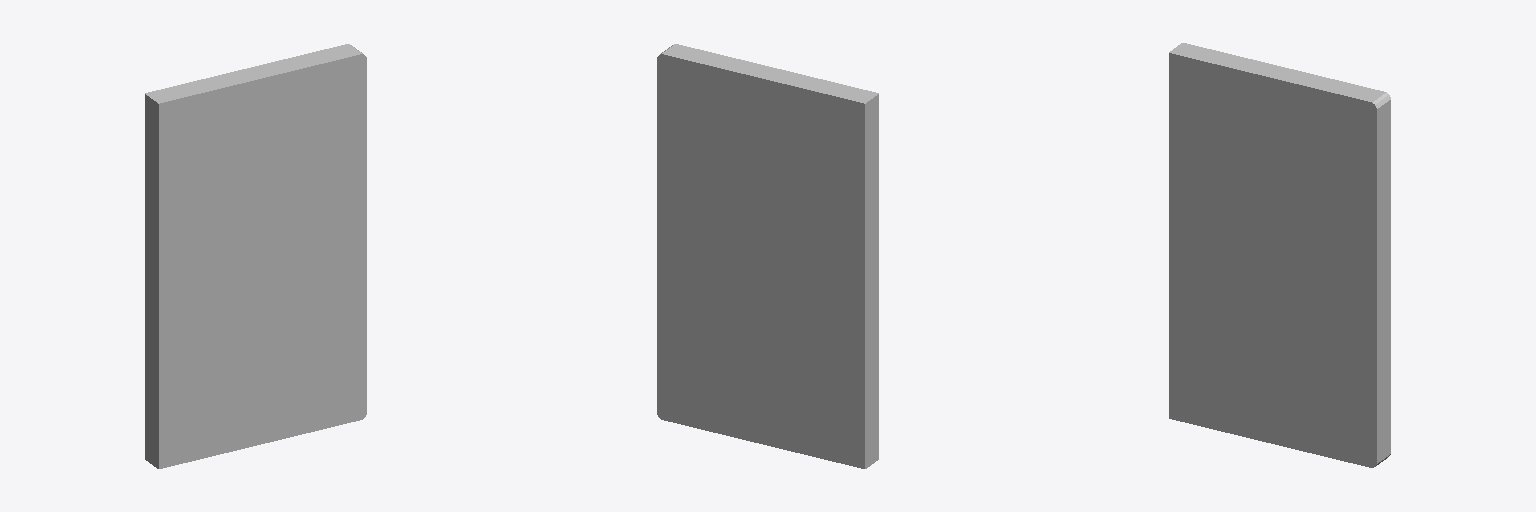
File: boxpsp_noreflx.obj
The picture shows the model from 3 angles: view 1: azimuth 30°, elevation 25°; view 2: azimuth 150°, elevation 25°; view 3: azimuth 330°, elevation 25°; orthographic projection.
Parts seen in each view (by area): view 1: g0; view 2: g0; view 3: g0.
Part boxes in pixels (x1,y1,x2,y2): g0: (145,44,366,468); g0: (657,44,878,468); g0: (1169,43,1390,467).
Size of the model in its own units: 1.44 by 2.41 by 0.1685.